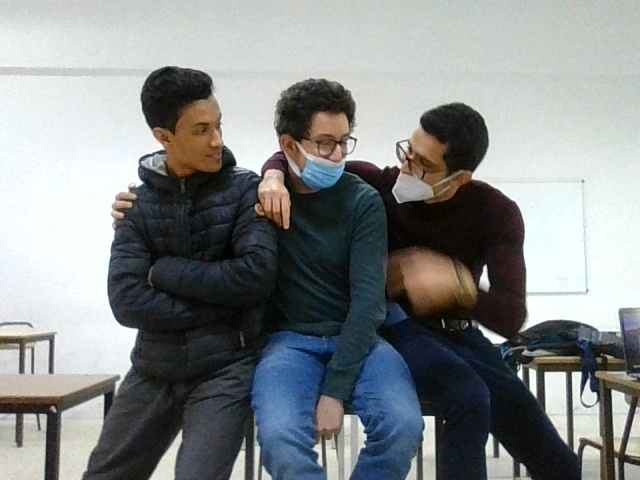mask_weared_incorrect: (269, 78, 365, 190), (392, 100, 485, 204)
without_mask: (138, 67, 231, 180)
